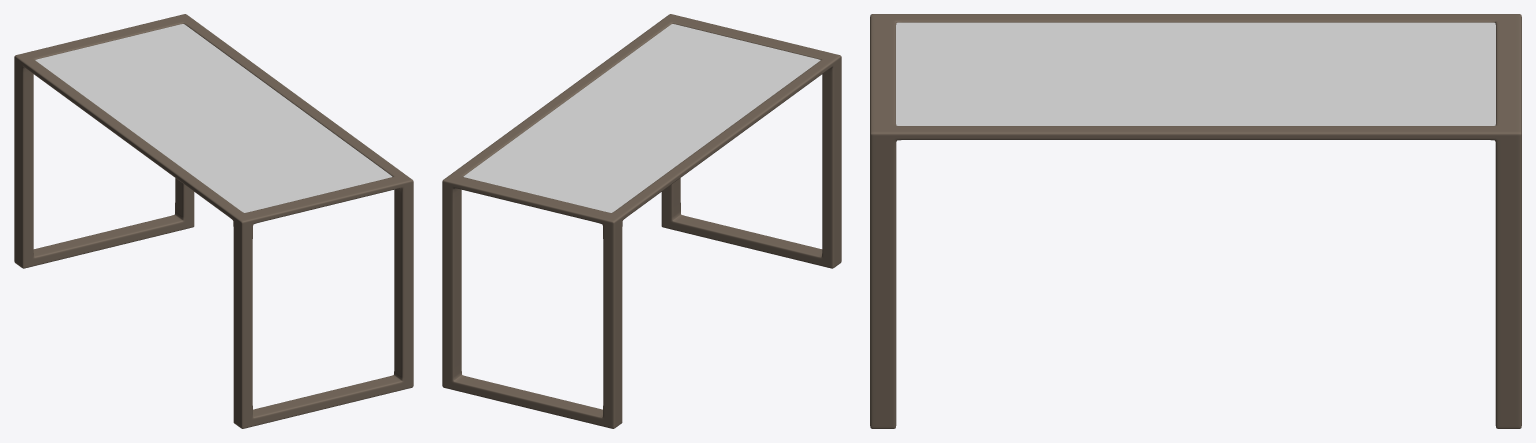
File: Table(Chair)_11.7.fbx
The picture shows the model from 3 angles, left to right: view 1: azimuth 30°, elevation 25°; view 2: azimuth 150°, elevation 25°; view 3: azimuth 270°, elevation 25°; orthographic projection. The views are drawn at different scales.
Parts seen in each view (by area): view 1: Table (Glass), Frame; view 2: Table (Glass), Frame; view 3: Table (Glass), Frame.
Part boxes in pixels (x1,y1,x2,y2): Table (Glass): (35,24,392,212); Frame: (14,14,413,428); Table (Glass): (463,24,820,212); Frame: (442,14,841,428); Table (Glass): (896,22,1495,125); Frame: (870,14,1521,428).
Bounding box in the file's own units: 111 × 128 × 254.
